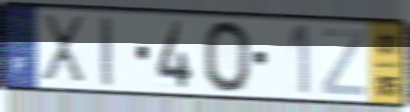1: (285, 21, 311, 99)
4: (154, 18, 195, 91)
I: (98, 13, 115, 90)
O: (201, 18, 254, 95)
X: (40, 12, 88, 88)
Z: (319, 26, 366, 99)
